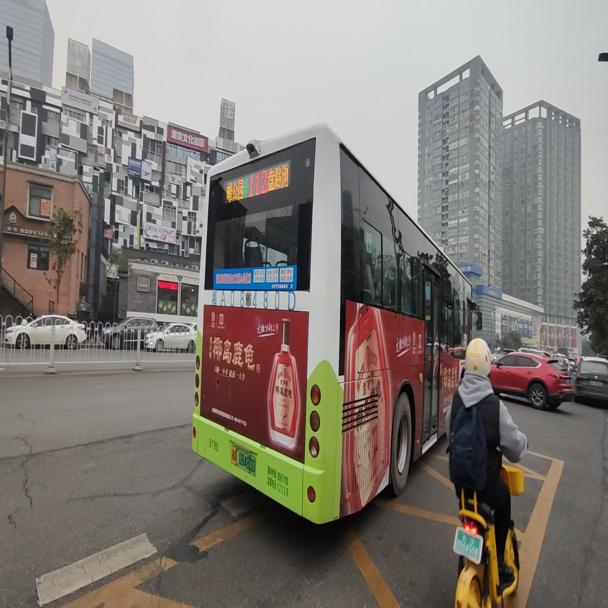bus: (191, 117, 481, 526)
screen: (246, 171, 266, 195)
